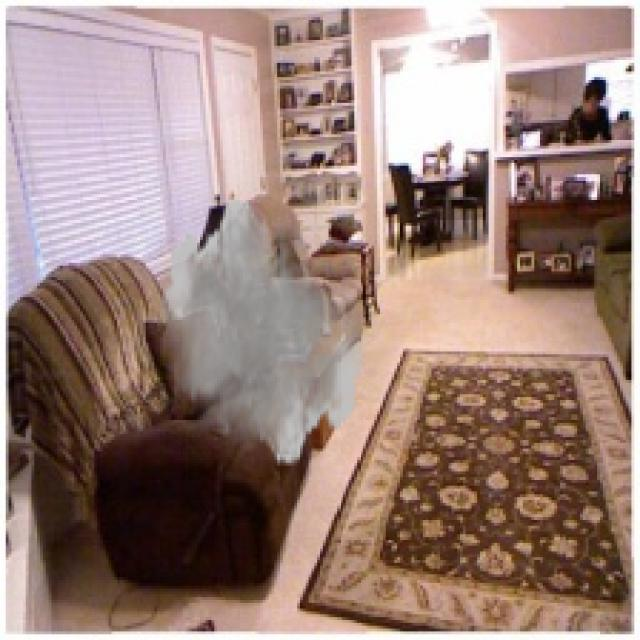Smoke: (157, 194, 369, 469)
